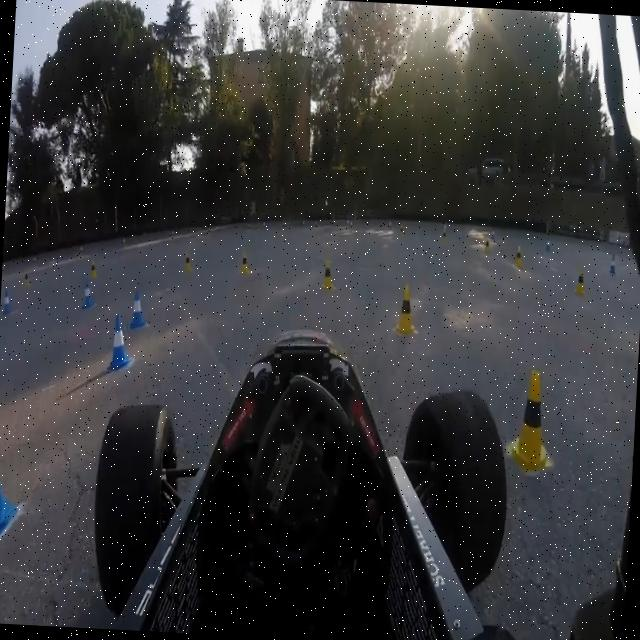blue_cone: (0, 424, 22, 550), (108, 310, 134, 375), (128, 287, 149, 335), (79, 280, 97, 314), (2, 286, 14, 318), (608, 254, 618, 276), (543, 236, 551, 255)
yellow_cone: (508, 364, 558, 476), (394, 282, 420, 337), (318, 258, 336, 294), (572, 268, 586, 298), (237, 250, 250, 278), (181, 251, 194, 277), (512, 243, 524, 271), (88, 258, 100, 284), (482, 237, 491, 256), (24, 268, 32, 288)
